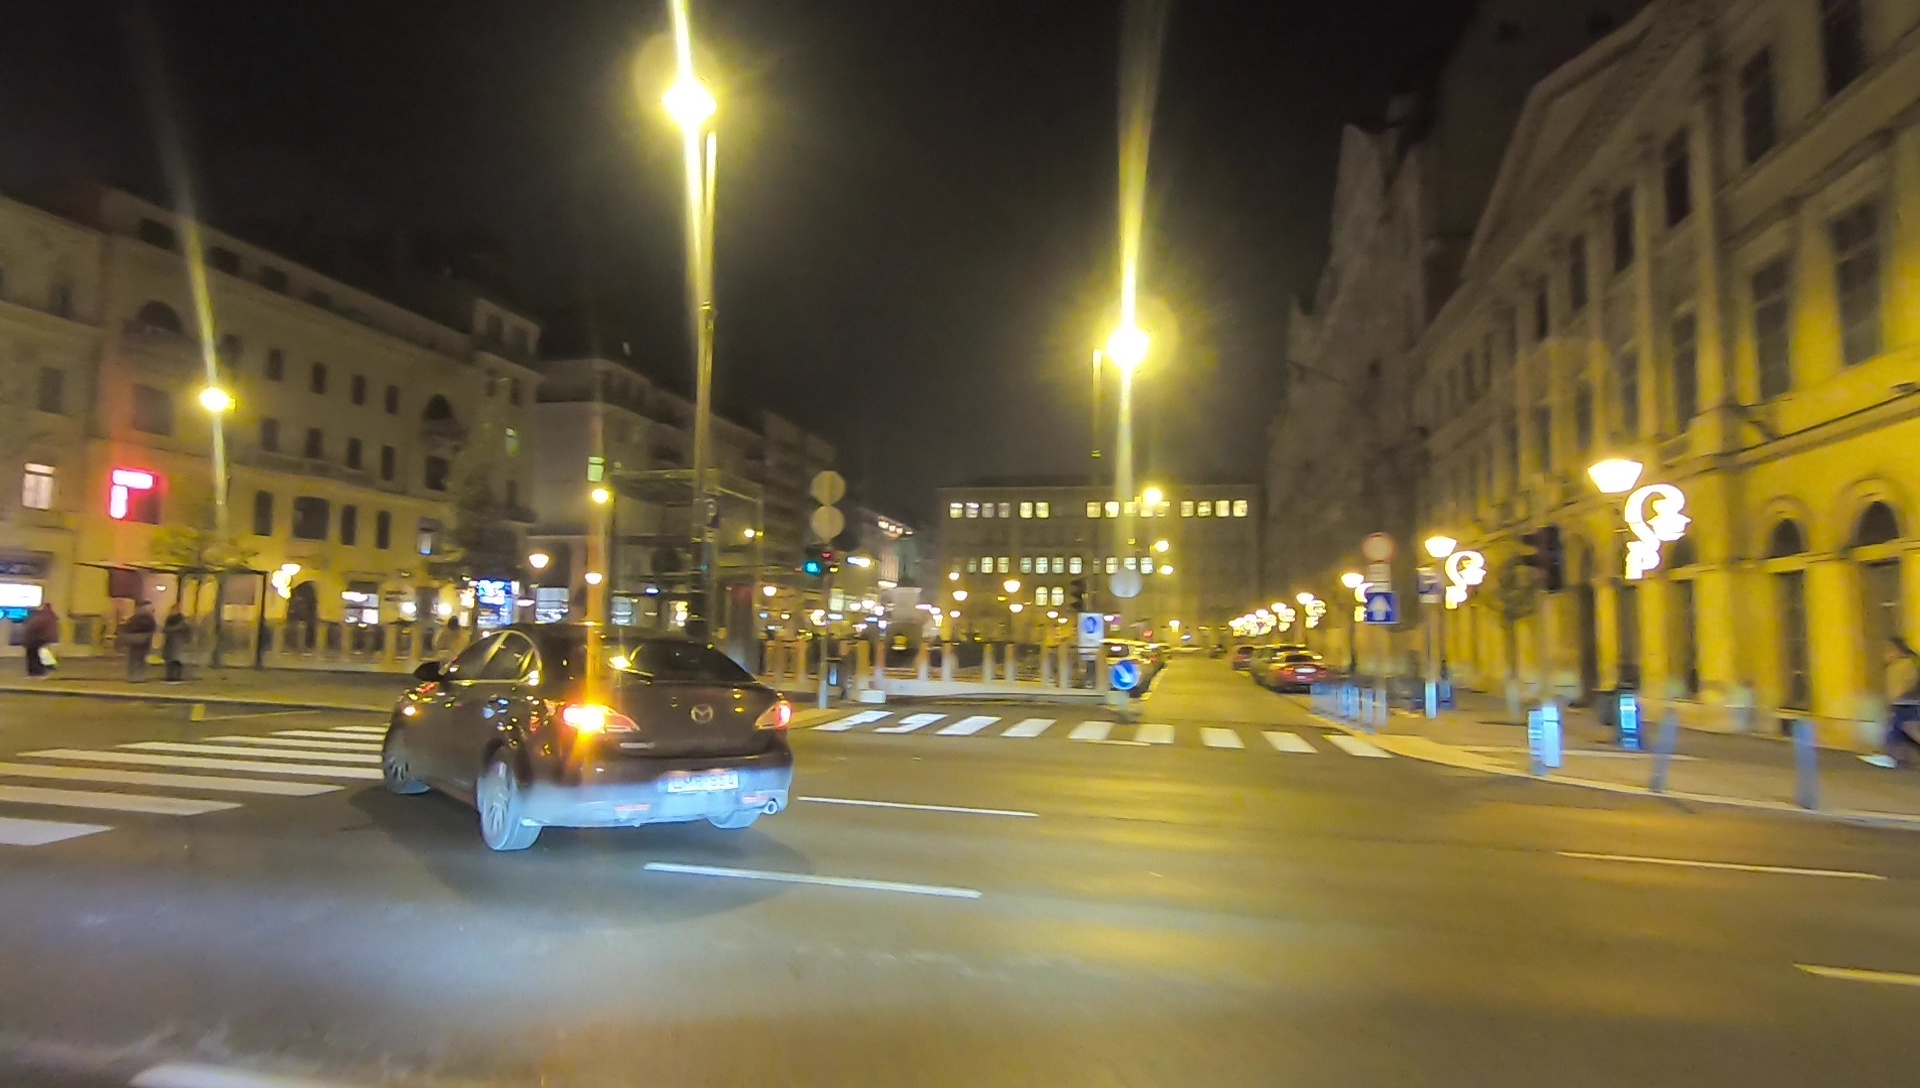person: (1867, 630, 1915, 778), (117, 604, 156, 680), (21, 604, 56, 674), (160, 610, 189, 691)
